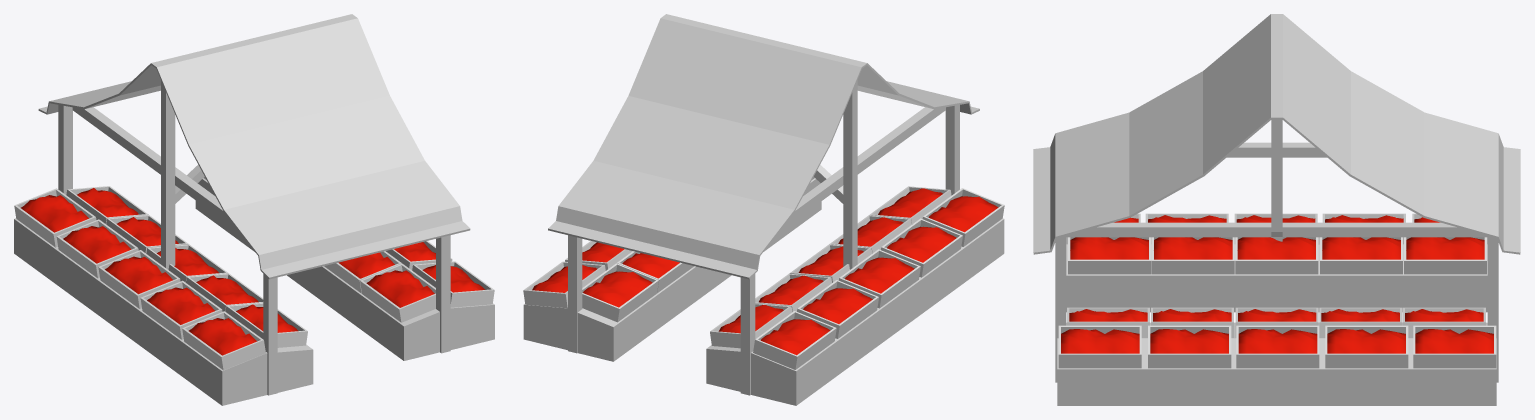
File: market.glb
3 renders of one model, left to right at view 1: azimuth 30°, elevation 25°; view 2: azimuth 150°, elevation 25°; view 3: azimuth 270°, elevation 25°, orthographic. The views are drawn at different scales.
Parts seen in each view (by area): view 1: Plane.009, Plane.010, Plane.023, Plane.017, Plane.028, Plane.022, Plane.024, Plane.026, Plane.025, Plane.027, Plane.012, Plane.011 (+8 smaller); view 2: Plane.009, Plane.010, Plane.023, Plane.017, Plane.024, Plane.018, Plane.025, Plane.027, Plane.026, Plane.028, Plane.016, Plane.011 (+8 smaller); view 3: Plane.009, Plane.011, Plane.029, Plane.010, Plane.012, Plane.013, Plane.014, Plane.015, Plane.016, Plane.030, Plane.031, Plane.032 (+10 smaller).
Part boxes in pixels (<box>): Plane.009: <box>38,14,470,279</box>; Plane.010: <box>58,80,450,395</box>; Plane.023: <box>14,218,267,405</box>; Plane.017: <box>195,178,439,360</box>; Plane.028: <box>182,311,265,370</box>; Plane.022: <box>360,263,435,322</box>; Plane.024: <box>14,188,96,247</box>; Plane.026: <box>98,250,180,308</box>; Plane.025: <box>56,219,138,278</box>; Plane.027: <box>140,280,222,339</box>; Plane.012: <box>412,261,494,307</box>; Plane.011: <box>450,303,494,349</box>; Plane.009: <box>548,14,979,279</box>; Plane.010: <box>568,80,959,395</box>; Plane.023: <box>751,218,1004,405</box>; Plane.017: <box>577,178,821,361</box>; Plane.024: <box>753,311,836,369</box>; Plane.018: <box>582,263,658,322</box>; Plane.025: <box>797,280,878,338</box>; Plane.027: <box>881,218,962,277</box>; Plane.026: <box>839,249,920,308</box>; Plane.028: <box>922,188,1004,246</box>; Plane.016: <box>523,261,605,308</box>; Plane.011: <box>523,304,567,350</box>; Plane.009: <box>1033,14,1520,254</box>; Plane.011: <box>1057,338,1496,405</box>; Plane.029: <box>1066,244,1487,312</box>; Plane.010: <box>1055,119,1498,382</box>; Plane.012: <box>1058,325,1141,368</box>; Plane.013: <box>1148,325,1231,368</box>; Plane.014: <box>1236,325,1319,368</box>; Plane.015: <box>1325,325,1408,368</box>; Plane.016: <box>1413,325,1496,368</box>; Plane.030: <box>1068,237,1151,274</box>; Plane.031: <box>1151,237,1234,274</box>; Plane.032: <box>1235,237,1318,274</box>.
Size of the model in its own units: 1.5 by 1.34 by 2.2.
